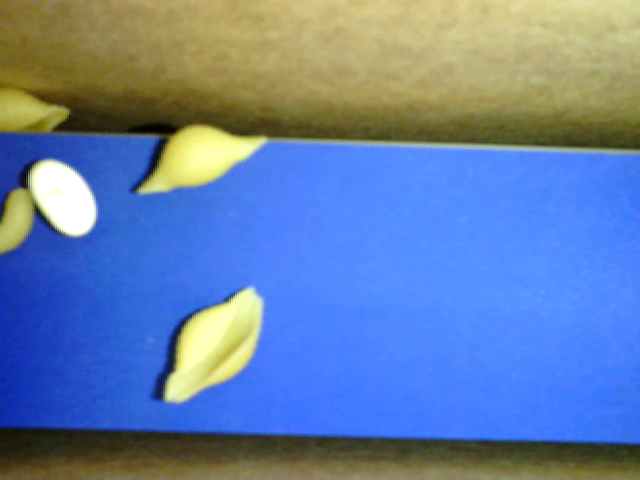elbow: (1, 185, 37, 251)
shell: (156, 285, 270, 407), (132, 117, 272, 198), (1, 87, 79, 130)
